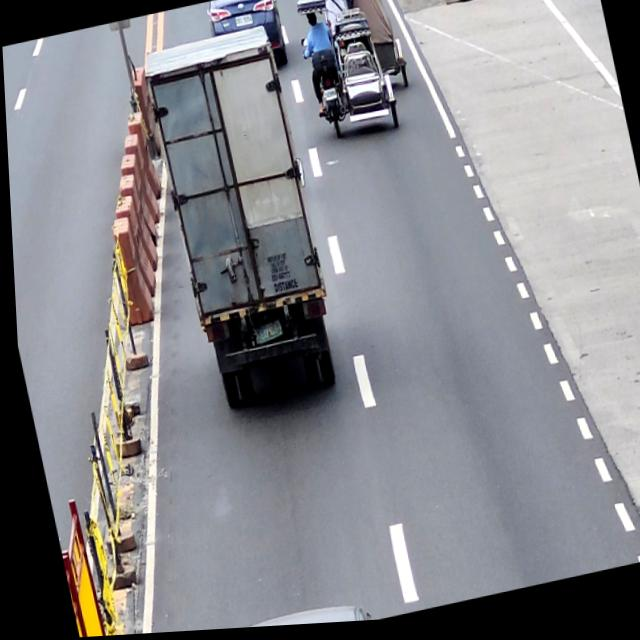Car: (204, 0, 290, 85)
License-Plate: (249, 324, 281, 347), (234, 16, 253, 30), (322, 92, 337, 107)
Tricycle: (291, 0, 402, 152), (315, 0, 410, 106)
Truck: (137, 23, 344, 419)
